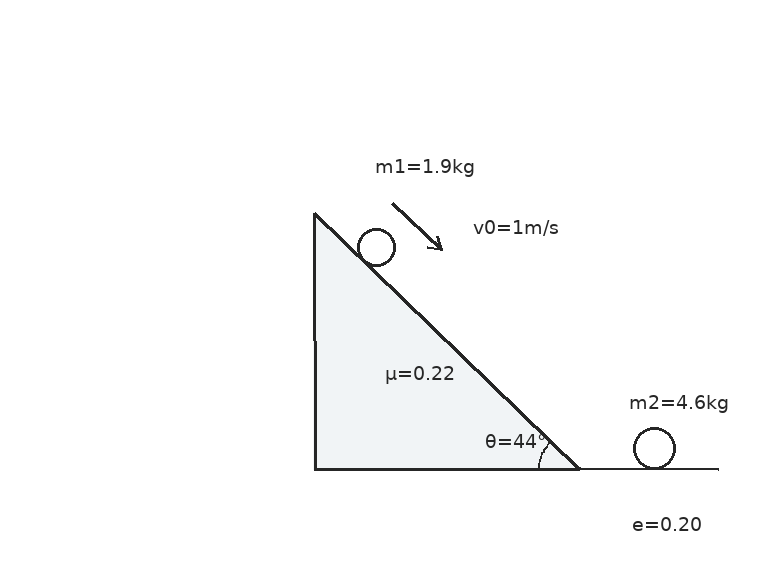ball: (631, 425, 677, 471), (355, 226, 397, 268)
ramp: (312, 211, 581, 471)
